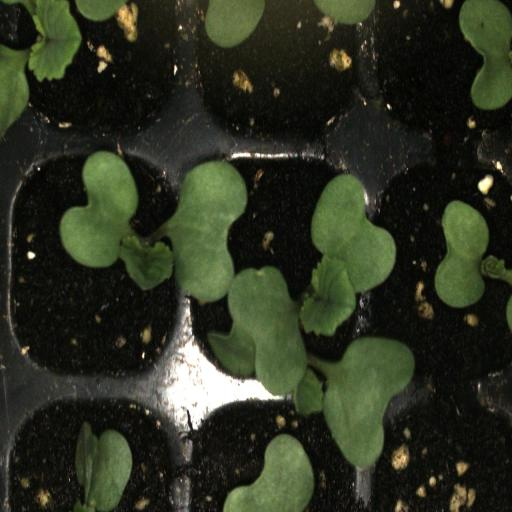Folha: (434, 200, 512, 308), (459, 0, 512, 110), (74, 424, 133, 512), (201, 0, 268, 49)
Germinacao: (188, 146, 379, 402), (3, 145, 194, 391)
